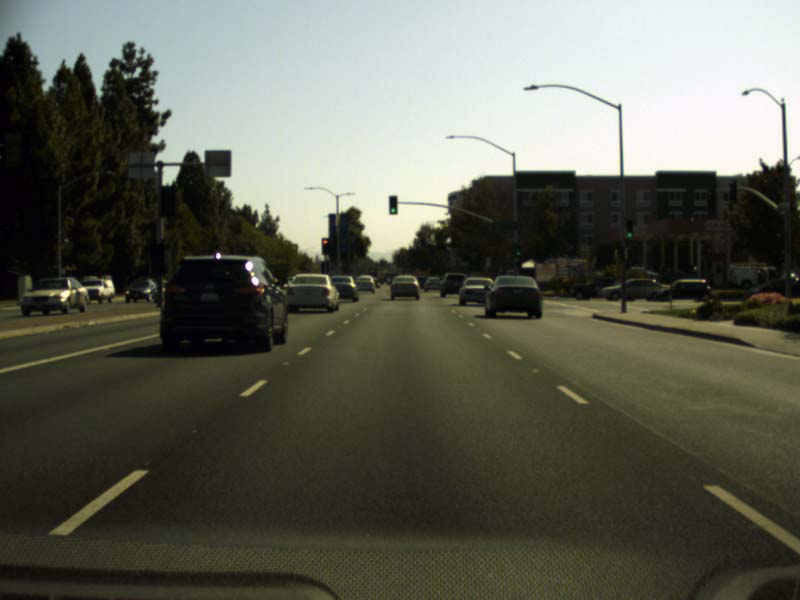Green: (624, 219, 633, 239), (389, 195, 396, 215), (514, 243, 521, 257)
Red: (322, 238, 329, 254)
